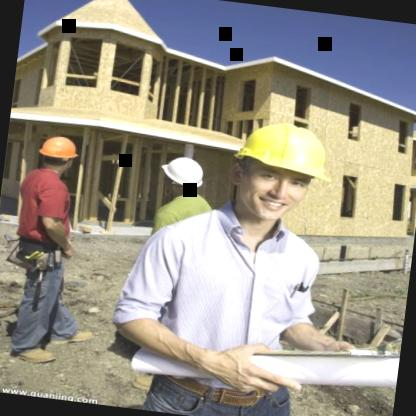helmet: (219, 112, 336, 228), (158, 150, 210, 198), (32, 132, 82, 177)
